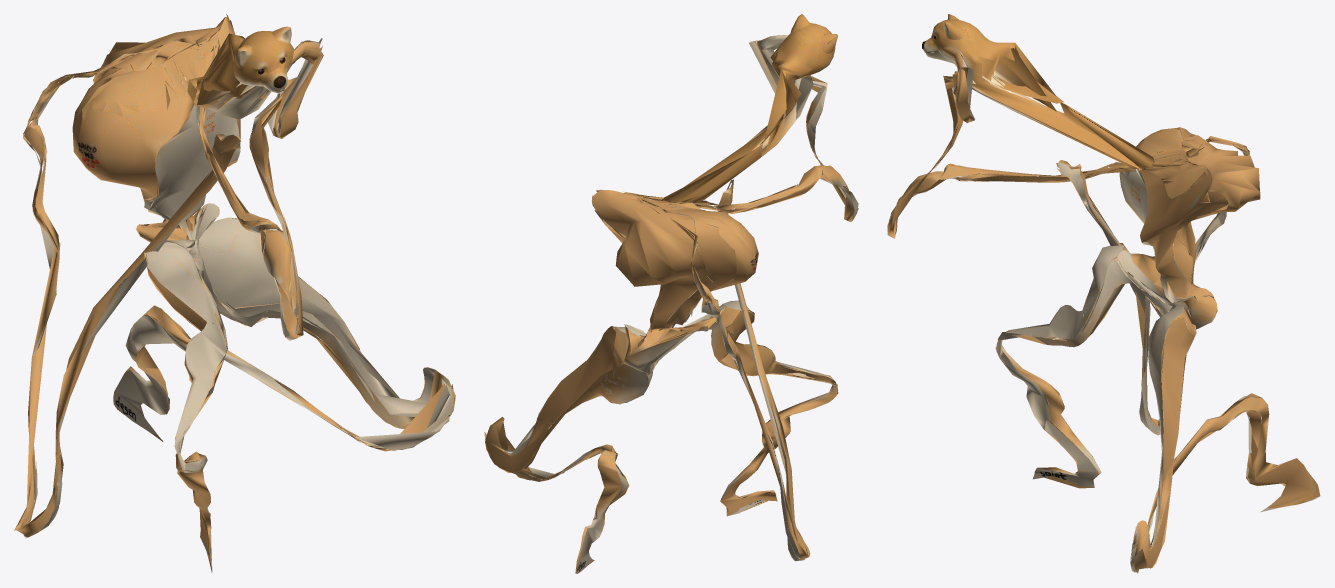
File: CROOKEDASWEFUNASYU-OG-v100.glb
The picture shows the model from 3 angles, left to right: view 1: azimuth 30°, elevation 25°; view 2: azimuth 150°, elevation 25°; view 3: azimuth 270°, elevation 25°; orthographic projection. The views are drawn at different scales.
Parts seen in each view (by area): view 1: CROOKEDASWEFUNASYU; view 2: CROOKEDASWEFUNASYU; view 3: CROOKEDASWEFUNASYU.
Boxes of the visible parts, x1,y1,x2,y2 form: CROOKEDASWEFUNASYU: [14, 14, 455, 572]; CROOKEDASWEFUNASYU: [484, 14, 858, 573]; CROOKEDASWEFUNASYU: [887, 14, 1320, 573].
Size of the model in its own units: 1.55 by 2.01 by 1.69.
1 material, 1 textured.
